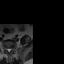CCS_normal: (8, 47, 9, 55)
LFS_normal: (10, 47, 12, 51)
LLS_stenosis: (9, 48, 10, 52)
RFS_normal: (5, 47, 7, 51)
RLS_stenosis: (7, 48, 8, 52)
